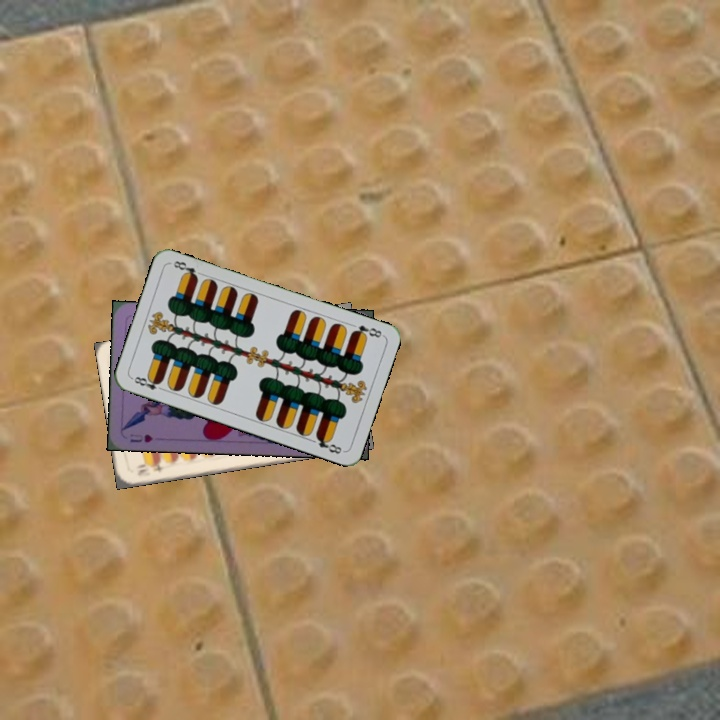E10: (132, 458, 166, 479)
E8: (128, 372, 167, 394), (347, 321, 385, 341)
HU: (126, 430, 156, 445)
